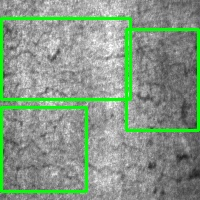crazing: (1, 18, 130, 99), (126, 29, 198, 130), (1, 107, 86, 191)
